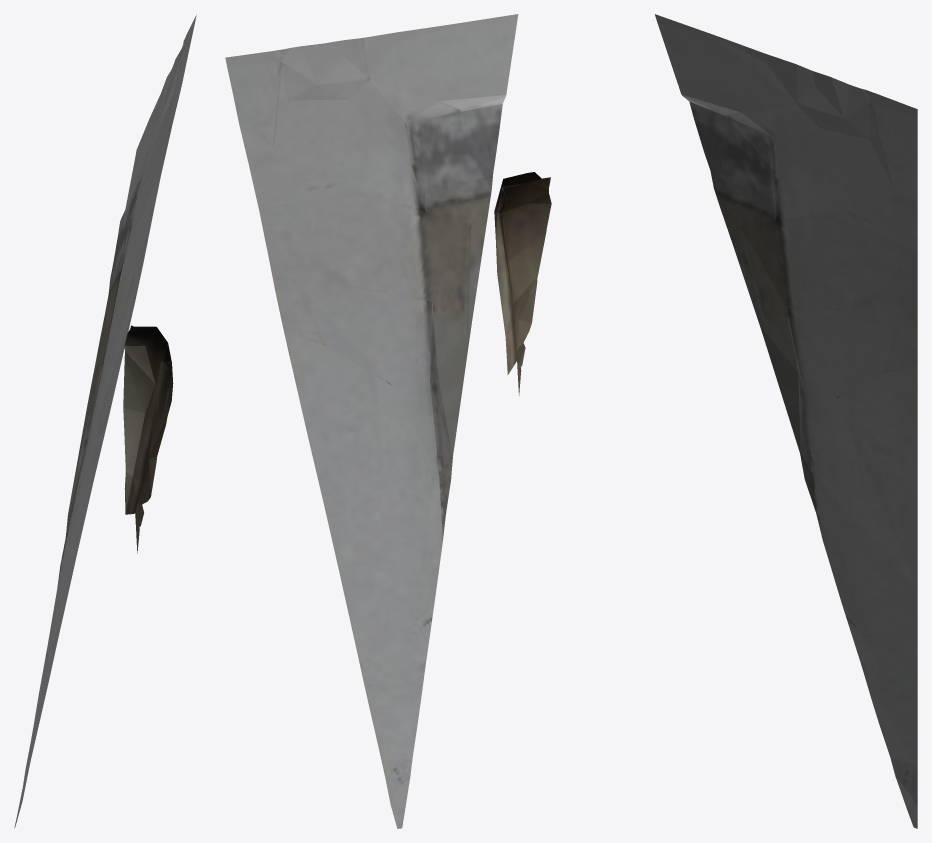
The picture shows the model from 3 angles, left to right: view 1: azimuth 30°, elevation 25°; view 2: azimuth 150°, elevation 25°; view 3: azimuth 270°, elevation 25°; orthographic projection. The views are drawn at different scales.
Bounding box in the file's own units: 0.4206 × 1.67 × 0.6297.
Materials: 1 (1 with a texture image).
